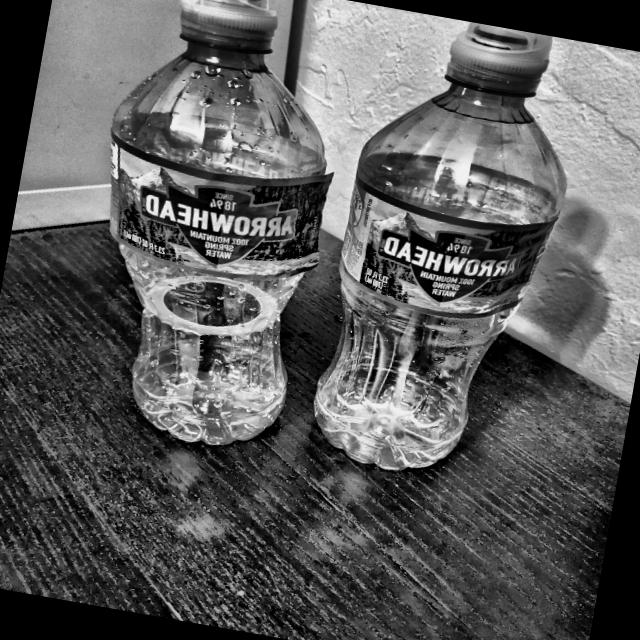waterbottle: (281, 2, 596, 508), (46, 0, 375, 476)
